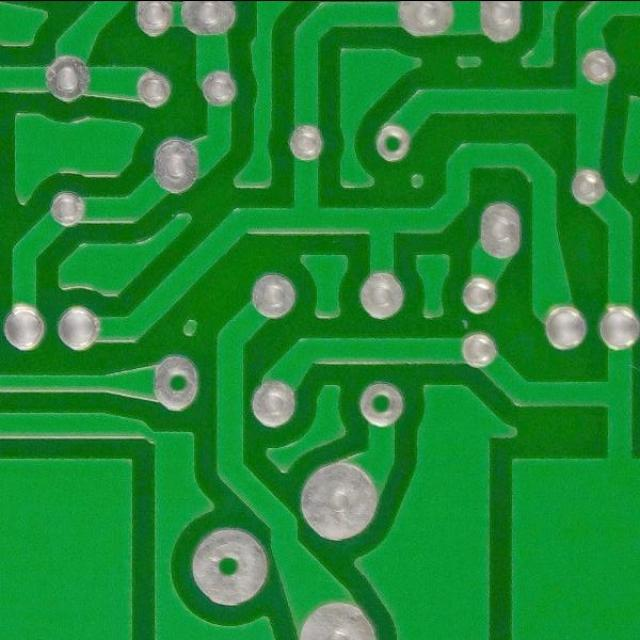Missing_Hole: (182, 523, 278, 613), (149, 352, 207, 416), (350, 378, 413, 431), (369, 120, 418, 166)
